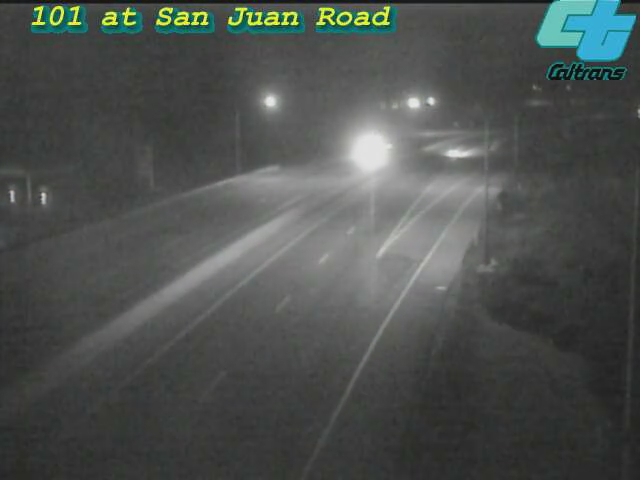vehicle: (340, 125, 390, 175), (426, 128, 476, 178)
